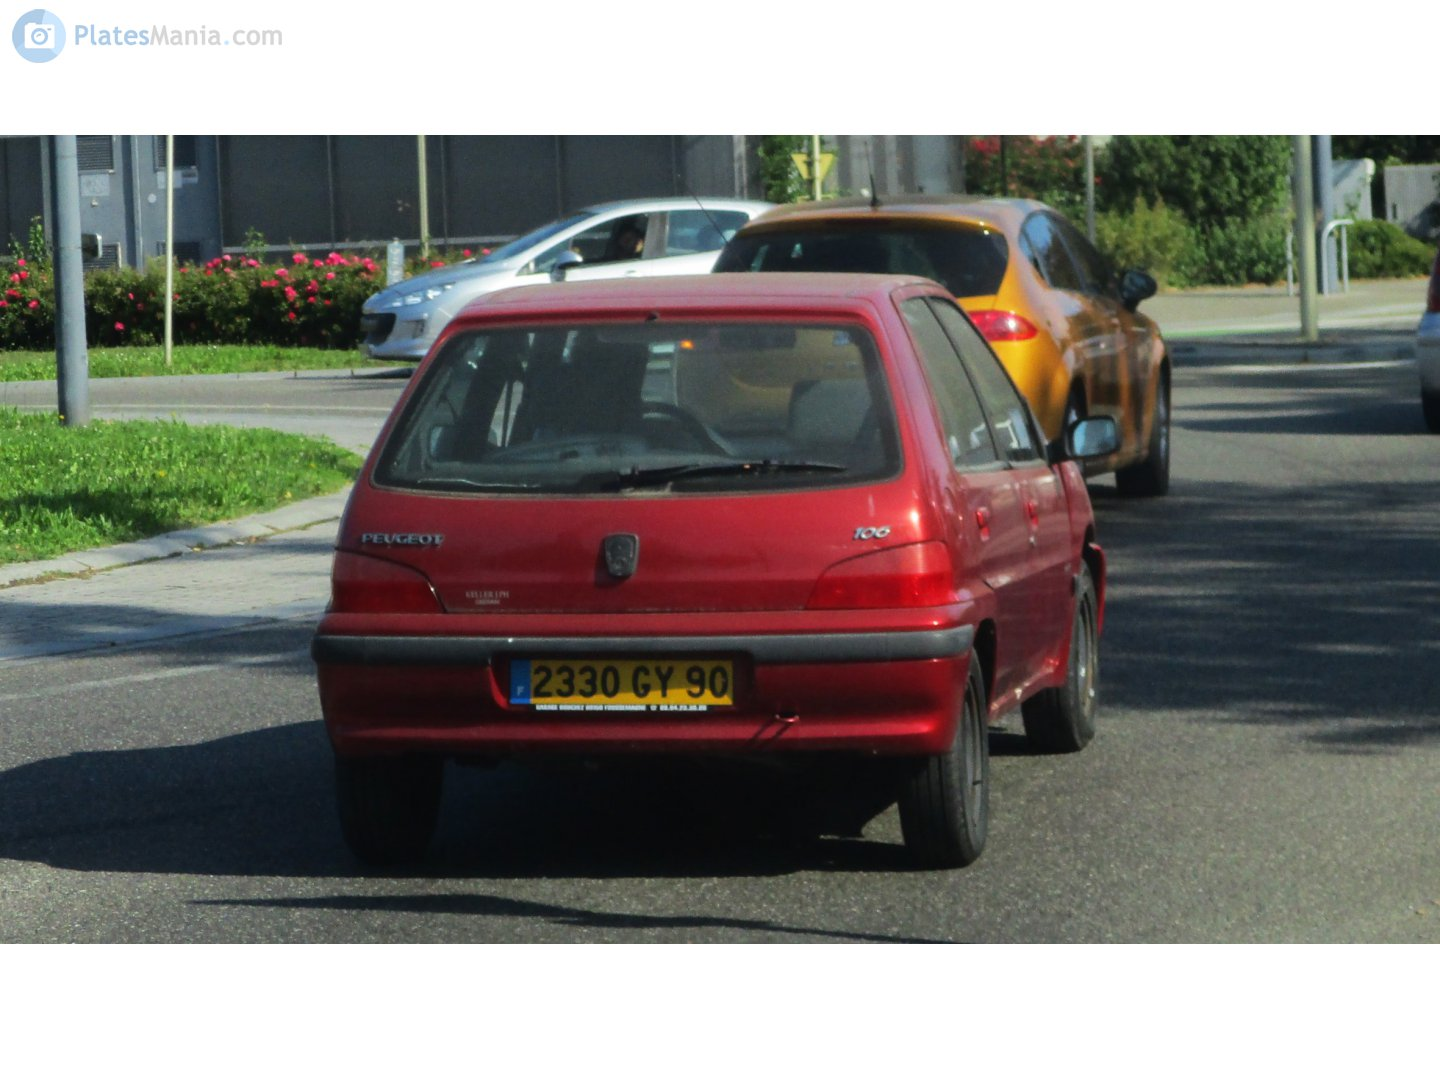licence plate: (511, 655, 738, 714)
